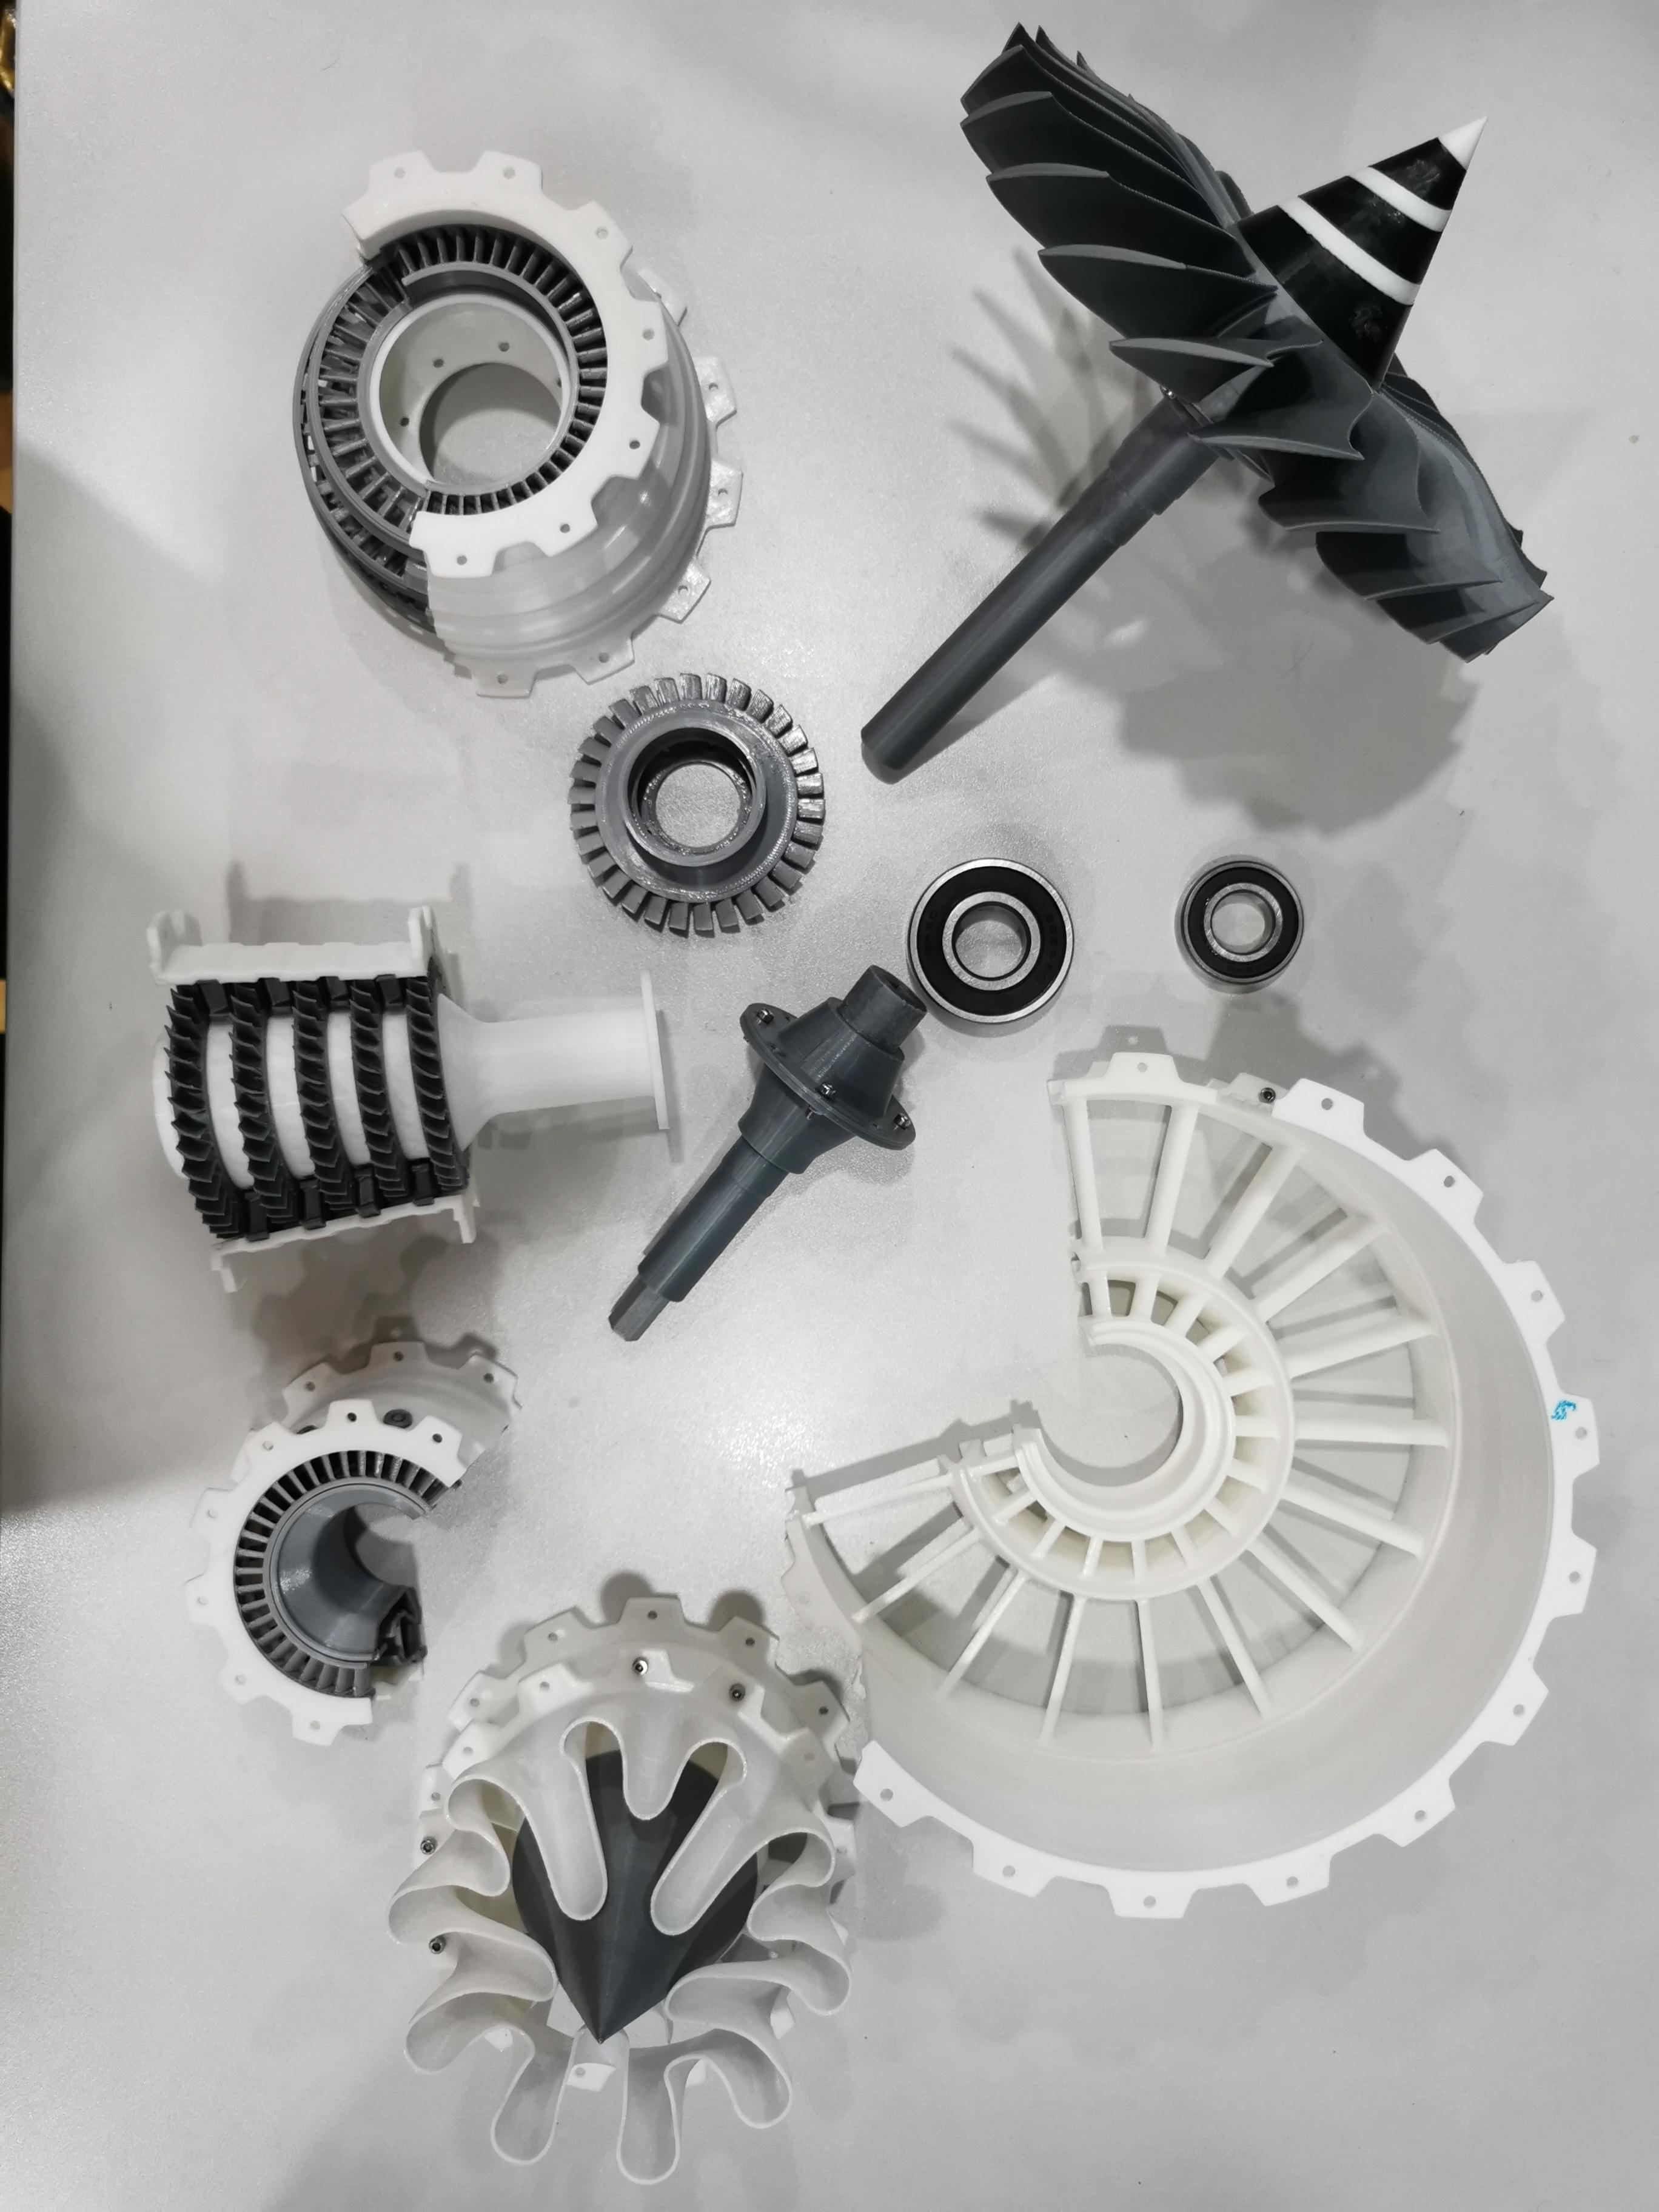Bearing-6003: (1154, 840, 1323, 1024)
Bearing-6204: (889, 845, 1093, 1038)
Combustion Section: (174, 1332, 533, 1763)
Fan Casing and Support: (770, 1040, 1612, 1935)
Fan and Low Pressure Shaft: (847, 12, 1565, 780)
HPT Section: (547, 669, 835, 941)
High Pressure Spool: (138, 890, 683, 1315)
LPT Section: (281, 134, 756, 709)
Low Pressure Spool: (596, 951, 945, 1353)
Nozzle Section: (376, 1581, 871, 2188)
